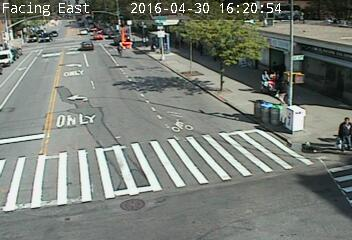neg: (183, 174, 205, 205), (105, 102, 124, 126), (69, 95, 85, 117), (289, 171, 305, 192), (228, 131, 243, 151), (156, 75, 171, 94), (266, 4, 281, 23), (135, 63, 149, 83), (71, 2, 84, 19), (112, 41, 124, 57), (190, 76, 201, 92), (58, 124, 69, 139), (216, 73, 226, 87), (183, 120, 193, 132), (131, 13, 140, 25)
pos: (264, 63, 295, 105), (331, 114, 351, 152), (253, 66, 274, 94)
